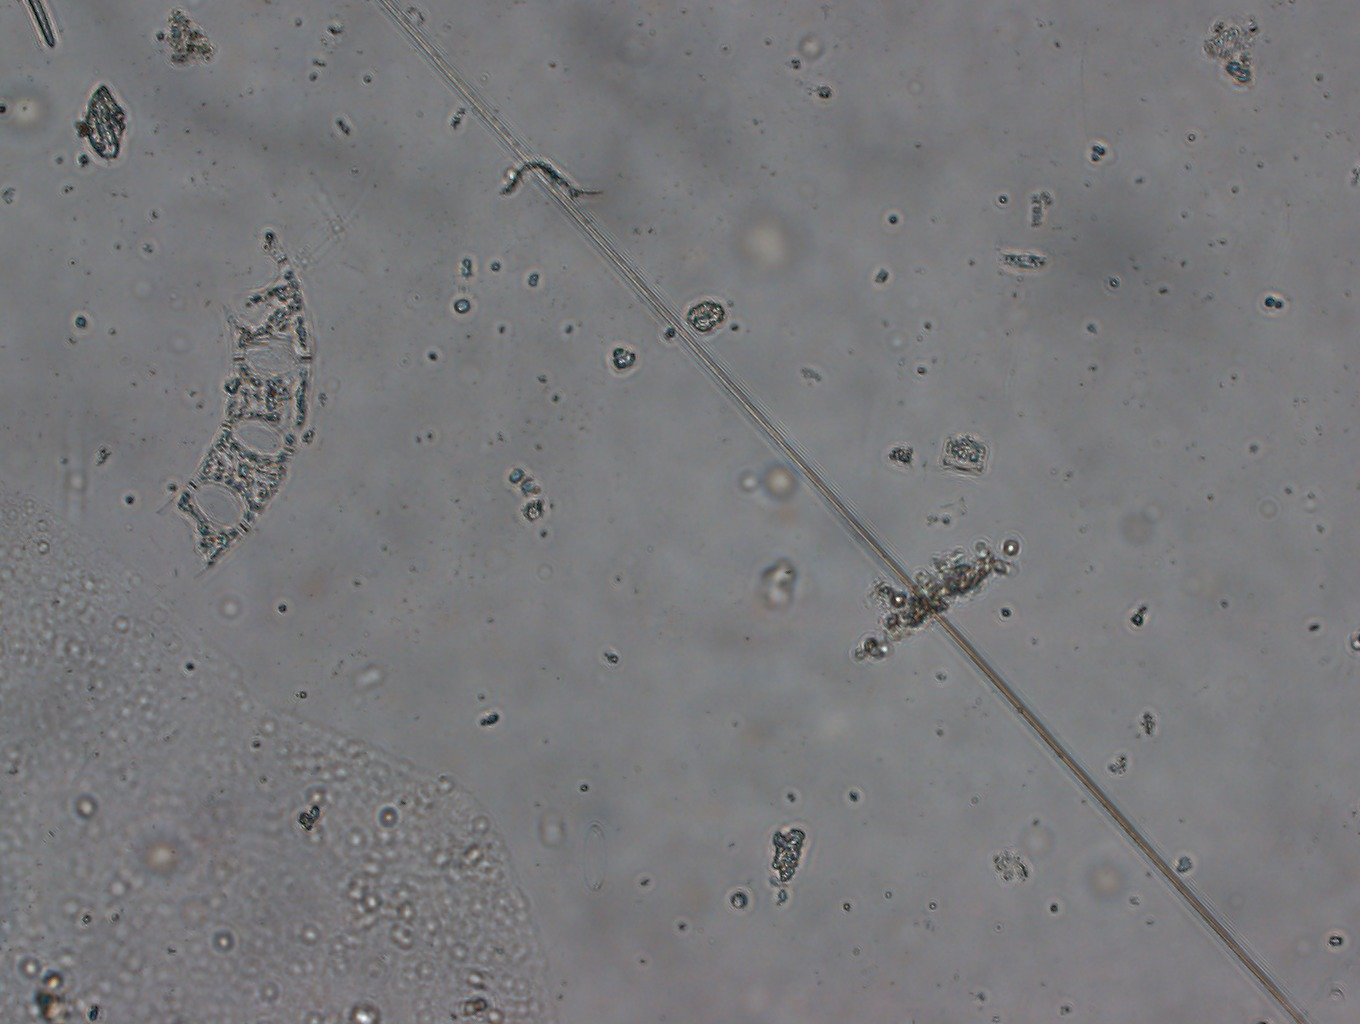eucampia: (157, 225, 329, 589)
